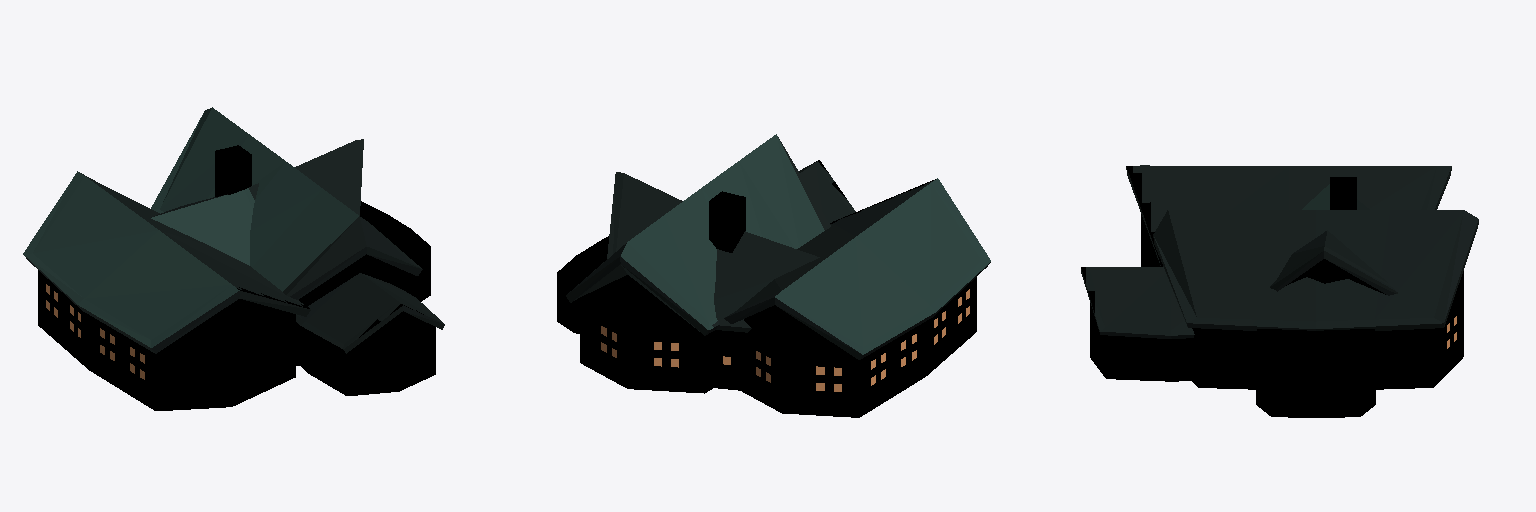
3 renders of one model, left to right at view 1: azimuth 30°, elevation 25°; view 2: azimuth 150°, elevation 25°; view 3: azimuth 270°, elevation 25°, orthographic.
Visible parts, largest first — view 1: cuboid; view 2: cuboid; view 3: cuboid.
Boxes of the visible parts, box(x1,y1,x2,y2) form: cuboid: box(23, 107, 444, 410); cuboid: box(557, 134, 990, 417); cuboid: box(1081, 165, 1478, 417).
Size of the model in its own units: 2.77 by 1.19 by 2.75.
1 materials, 1 textured.